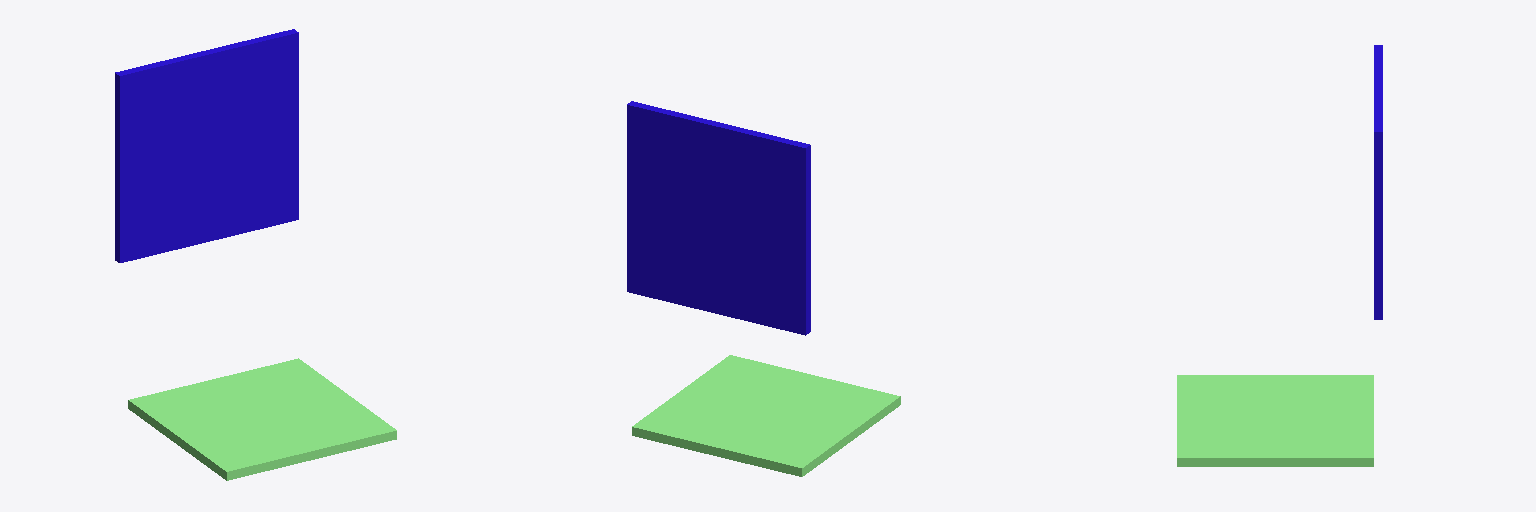
The model's file is room_high.obj.
3 views of the same model, side by side, from view 1: azimuth 30°, elevation 25°; view 2: azimuth 150°, elevation 25°; view 3: azimuth 270°, elevation 25° (orthographic).
Parts seen in each view (by area): view 1: Object001; view 2: Object001; view 3: Object001.
Boxes of the visible parts, box(x1,y1,x2,y2) form: Object001: box(115, 29, 396, 480); Object001: box(627, 101, 900, 476); Object001: box(1177, 45, 1382, 466).
Bounding box in the file's own units: 42 × 75.03 × 42.